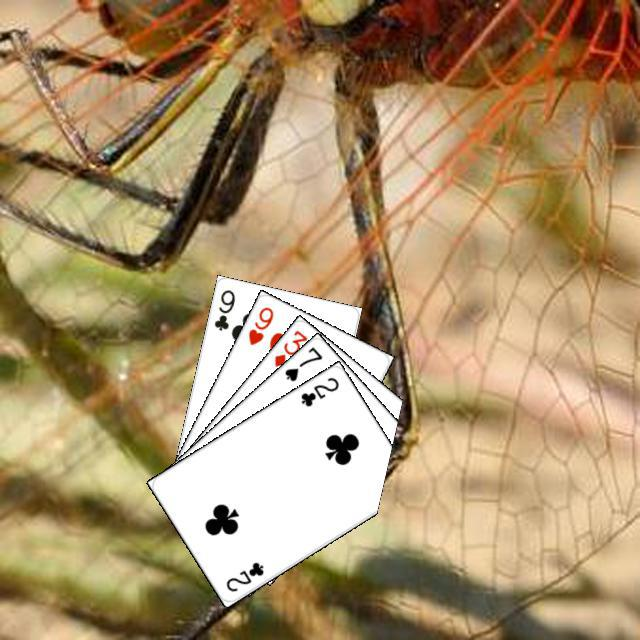2c: (296, 372, 341, 409), (221, 557, 266, 594)
3d: (269, 325, 309, 369)
7s: (280, 342, 324, 383)
9c: (209, 285, 237, 332)
9h: (243, 302, 275, 347)
